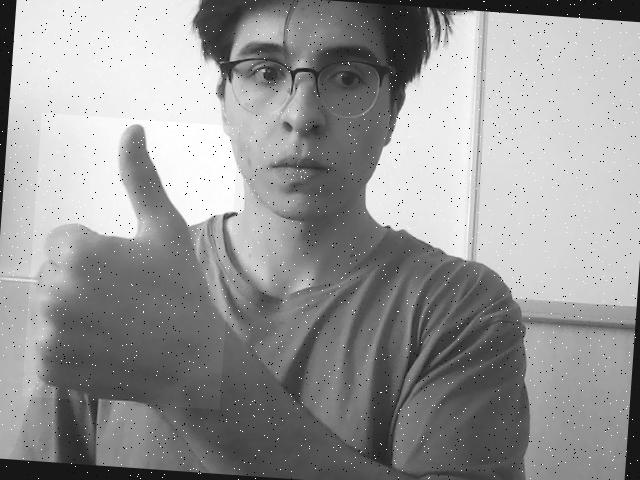good: (22, 112, 238, 409)
